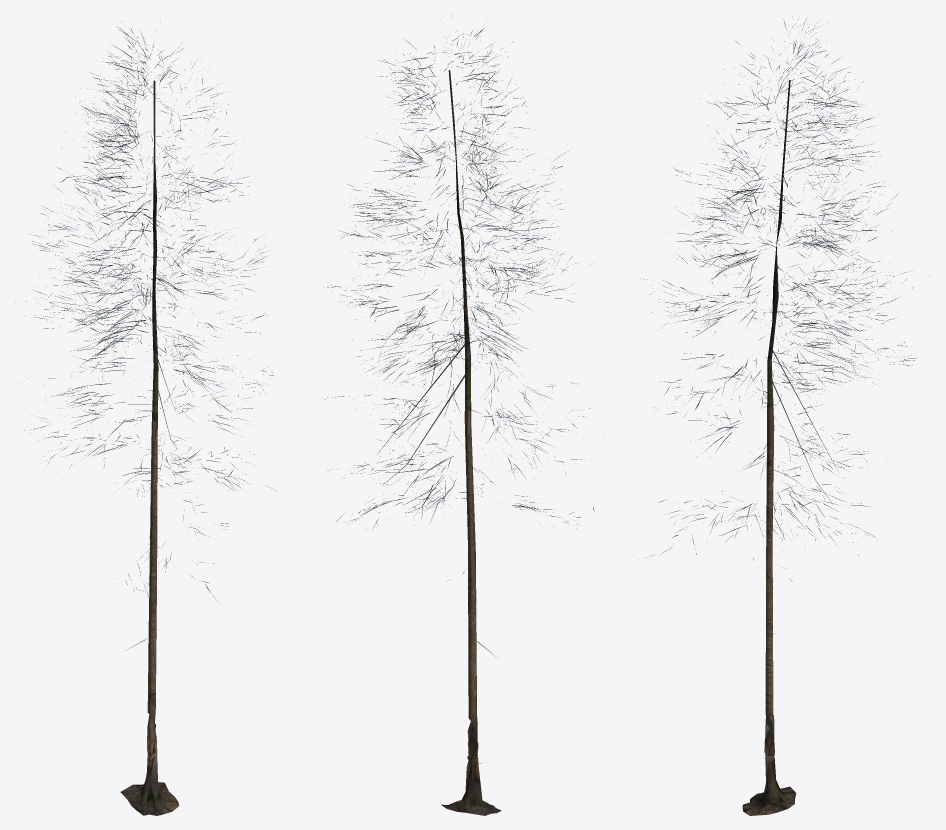
Rendered from tree_b_lod0.glb.
3 renders of one model, left to right at view 1: azimuth 30°, elevation 25°; view 2: azimuth 150°, elevation 25°; view 3: azimuth 270°, elevation 25°, orthographic. The views are drawn at different scales.
Parts seen in each view (by area): view 1: fir_tree_01_a_LOD0; view 2: fir_tree_01_a_LOD0; view 3: fir_tree_01_a_LOD0.
Boxes of the visible parts, x1,y1,x2,y2 form: fir_tree_01_a_LOD0: (15,27,275,815); fir_tree_01_a_LOD0: (324,28,603,815); fir_tree_01_a_LOD0: (644,16,918,815).
Bounding box in the file's own units: 6.37 × 18.78 × 6.39.
4 materials, 4 textured.
